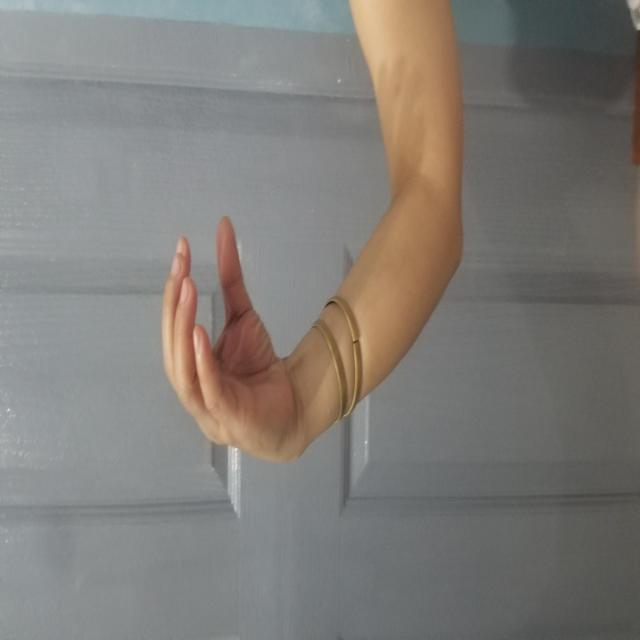C: (113, 198, 334, 504)
